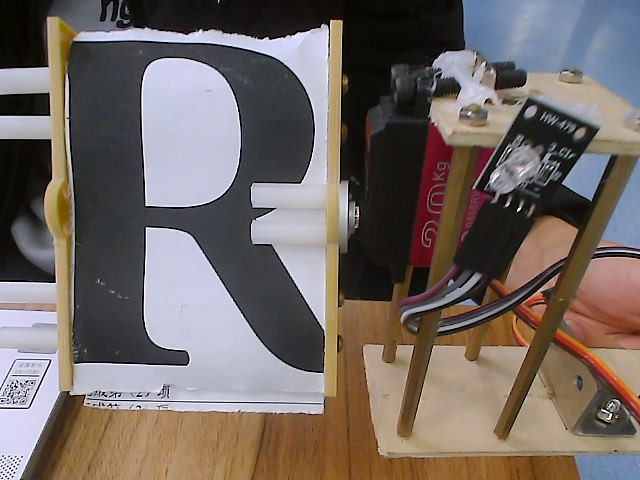R: (18, 1, 370, 425)
